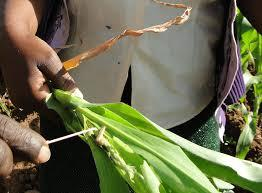fallarmy_worm: (94, 126, 114, 154)
